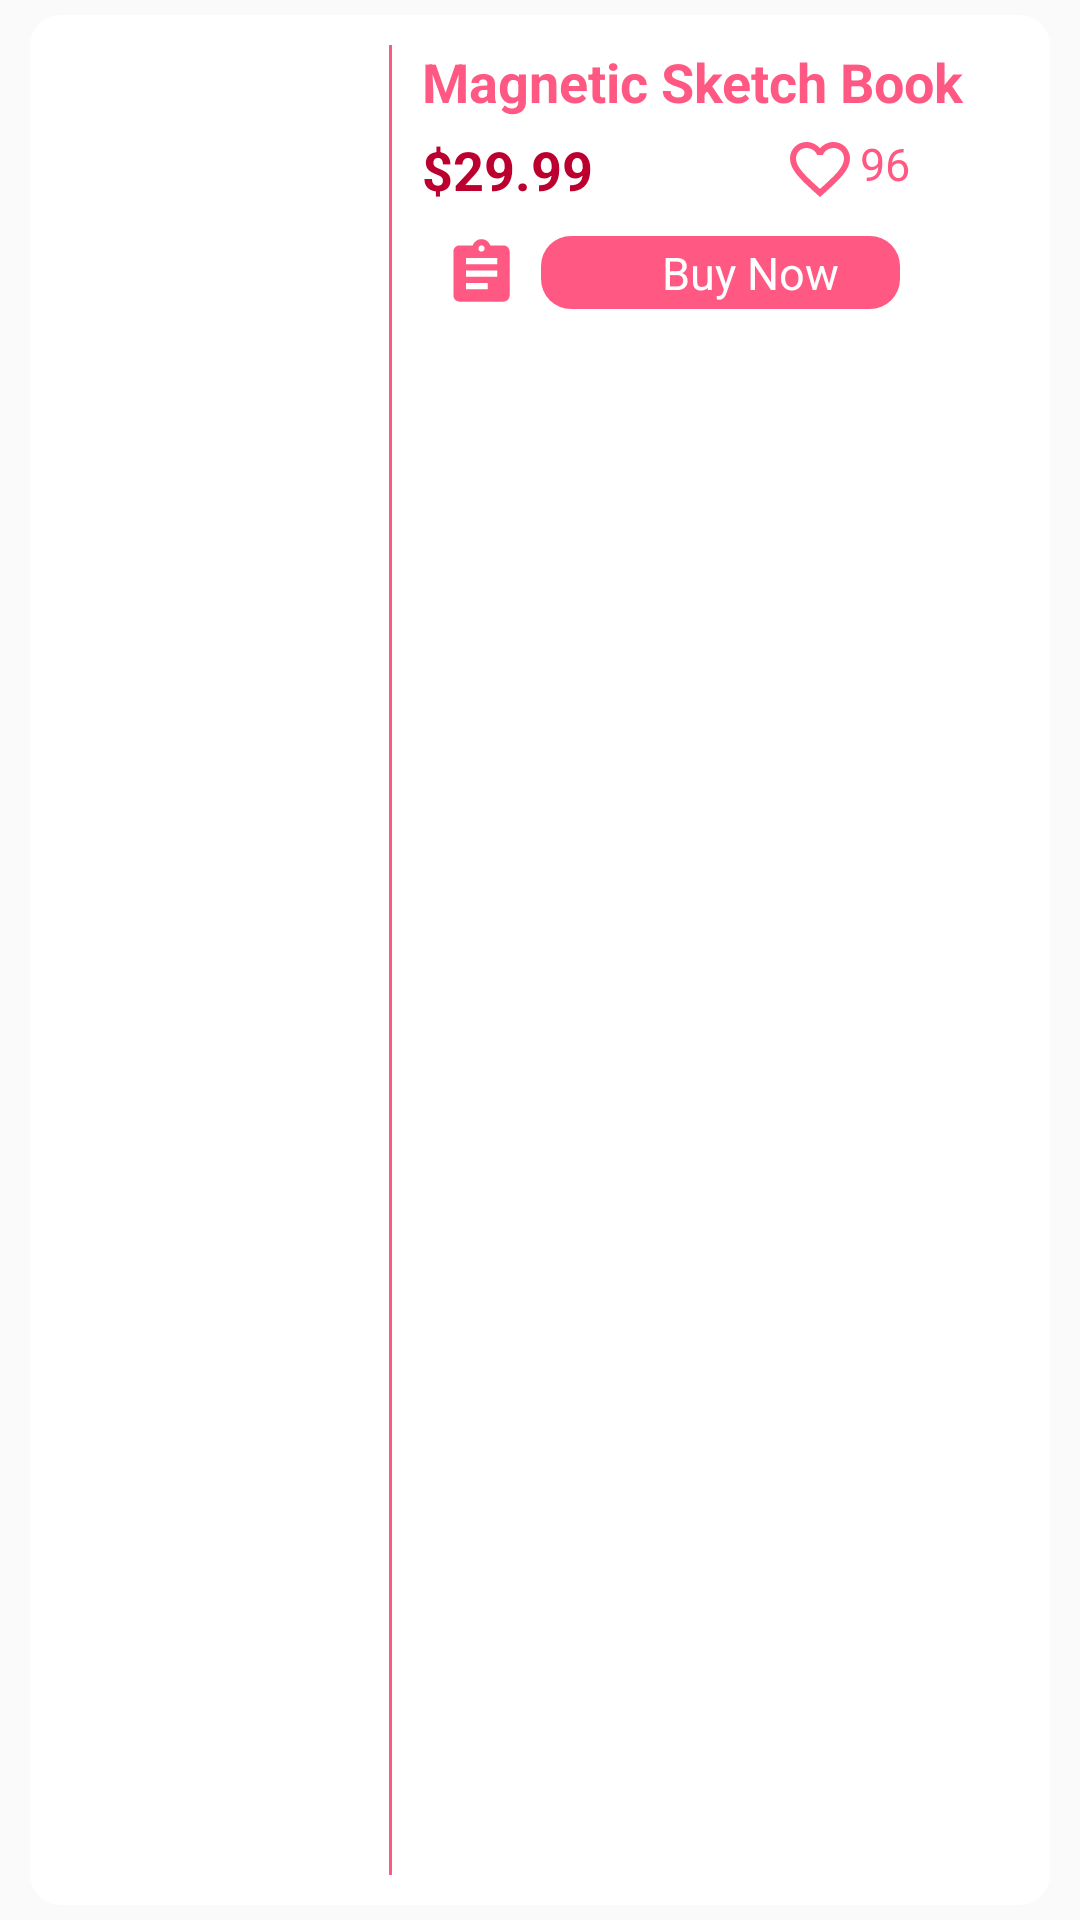

Locate icon controls on the screen. Image size 1080×1920, boxes as (x1=x1, y1=y1, x2=x2, y2=y2).
description: (x1=453, y1=239, x2=510, y2=302)
heart: (x1=790, y1=142, x2=850, y2=197)
